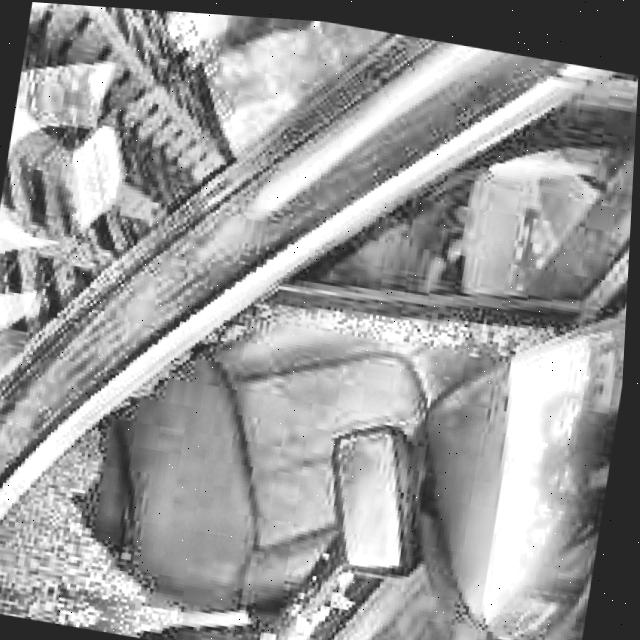glass_shatter: (56, 387, 337, 640), (223, 296, 475, 438)
